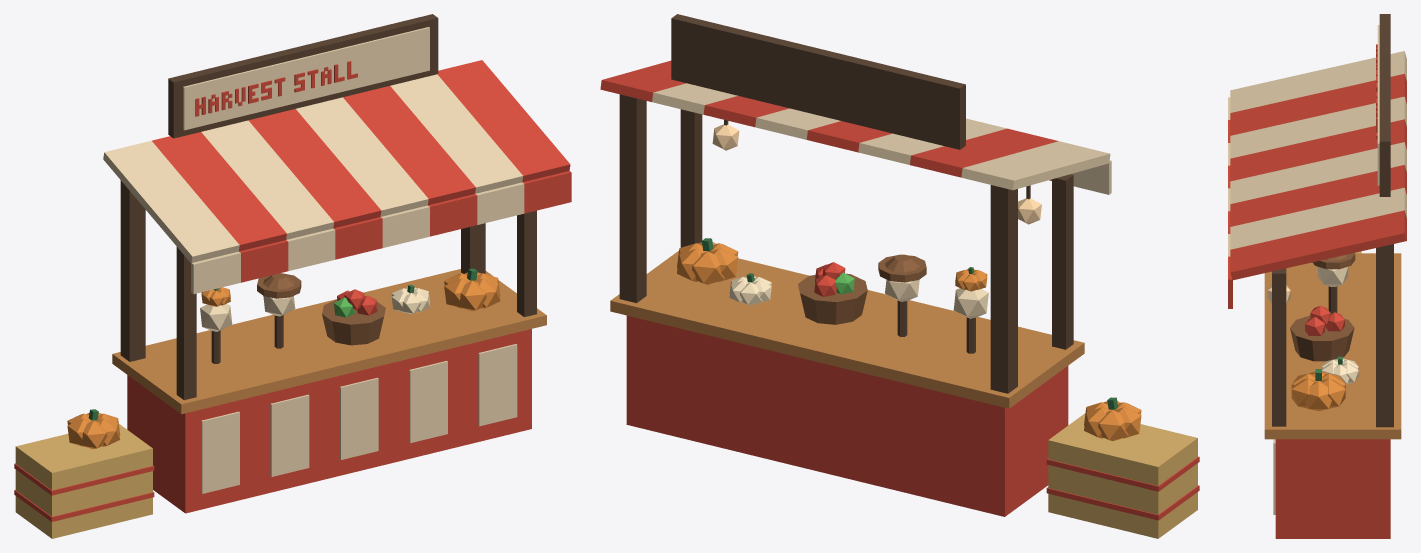
Rendered from CatCafe_Harvest_Stall.glb.
3 views of the same model, side by side, from view 1: azimuth 30°, elevation 25°; view 2: azimuth 150°, elevation 25°; view 3: azimuth 270°, elevation 25° (orthographic). The views are drawn at different scales.
Parts seen in each view (by area): view 1: CatCafe_Harvest_Stall; view 2: CatCafe_Harvest_Stall, CatCafe_Harvest_Stall_Glow; view 3: CatCafe_Harvest_Stall.
Part boxes in pixels (x1,y1,x2,y2): CatCafe_Harvest_Stall: [14, 14, 571, 538]; CatCafe_Harvest_Stall: [600, 14, 1199, 538]; CatCafe_Harvest_Stall_Glow: [712, 124, 1041, 224]; CatCafe_Harvest_Stall: [1228, 14, 1406, 538].
Size of the model in its own units: 15.53 by 11.6 by 4.98.
Materials: 1 (1 with a texture image).
